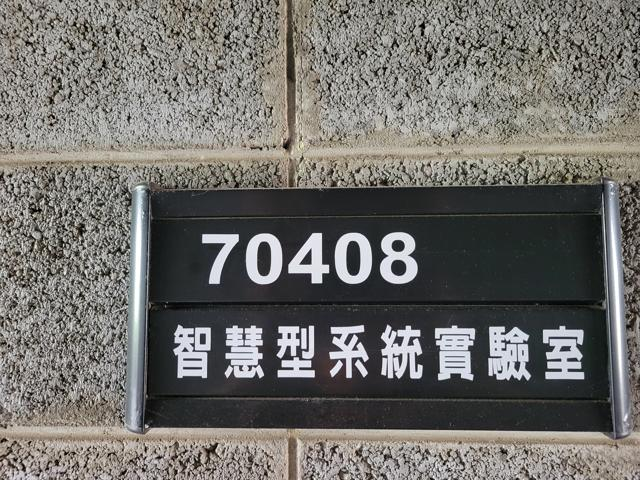doorplate: (121, 174, 633, 444)
